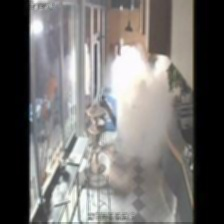smoke: (102, 34, 182, 184)
